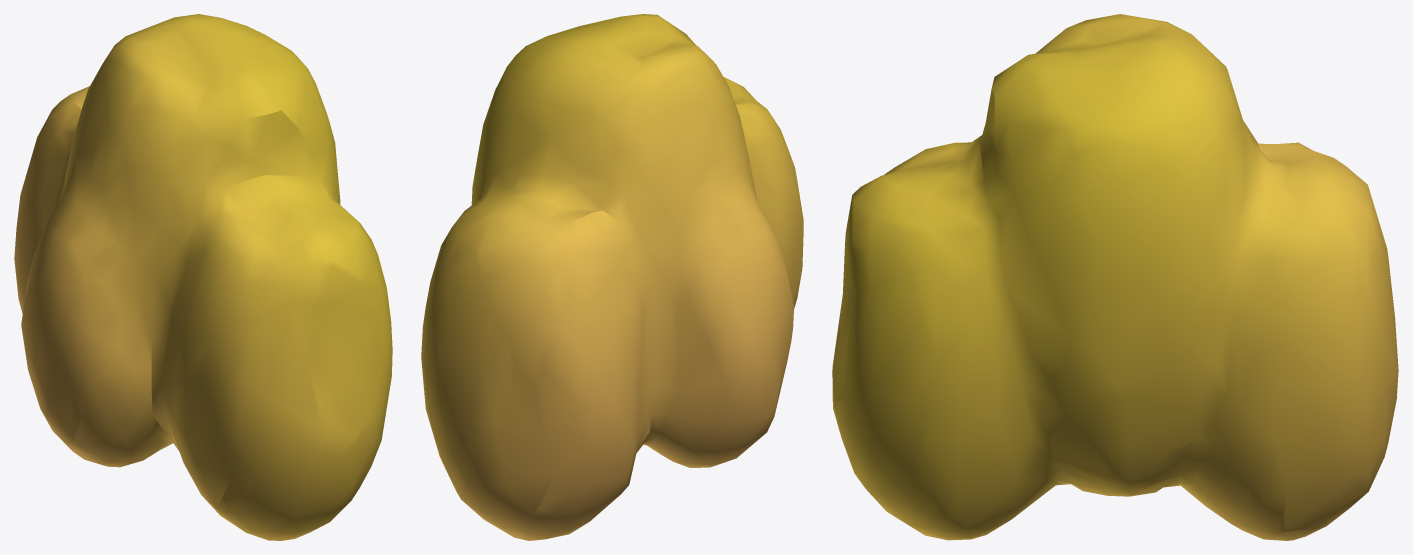
Rendered from Pyrite.fbx.
3 views of the same model, side by side, from view 1: azimuth 30°, elevation 25°; view 2: azimuth 150°, elevation 25°; view 3: azimuth 270°, elevation 25° (orthographic). The views are drawn at different scales.
Visible parts, largest first — view 1: PYRITE.001; view 2: PYRITE.001; view 3: PYRITE.001.
Part boxes in pixels (x1,y1,x2,y2): PYRITE.001: (14,14,392,540); PYRITE.001: (421,14,803,540); PYRITE.001: (832,14,1398,540).
Bounding box in the file's own units: 128 × 194 × 203.
1 material, 1 textured.
